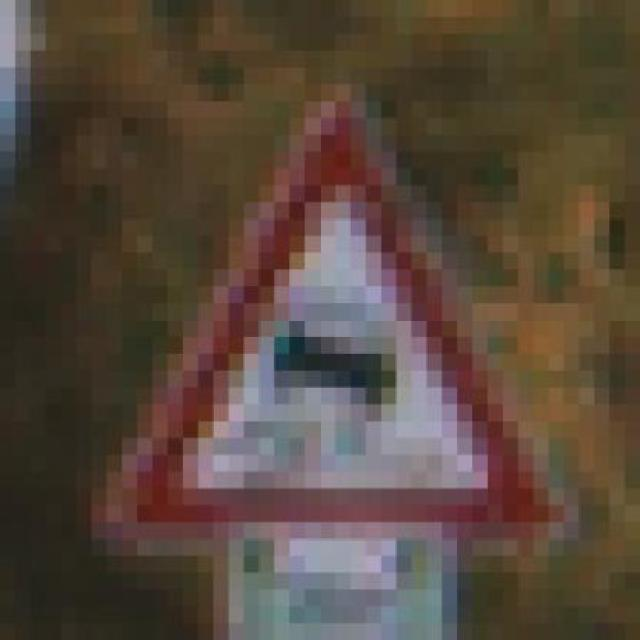Slippery Road Ahead: (91, 84, 564, 556)
